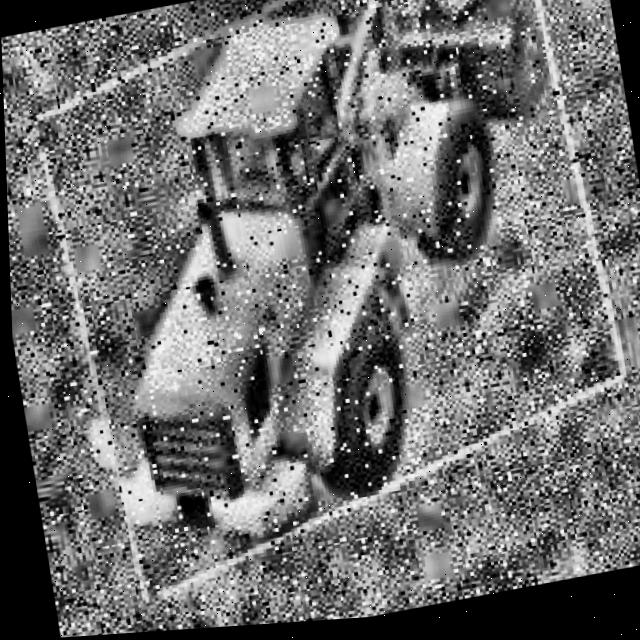buldozerpayloadergrader: (36, 0, 630, 598)
